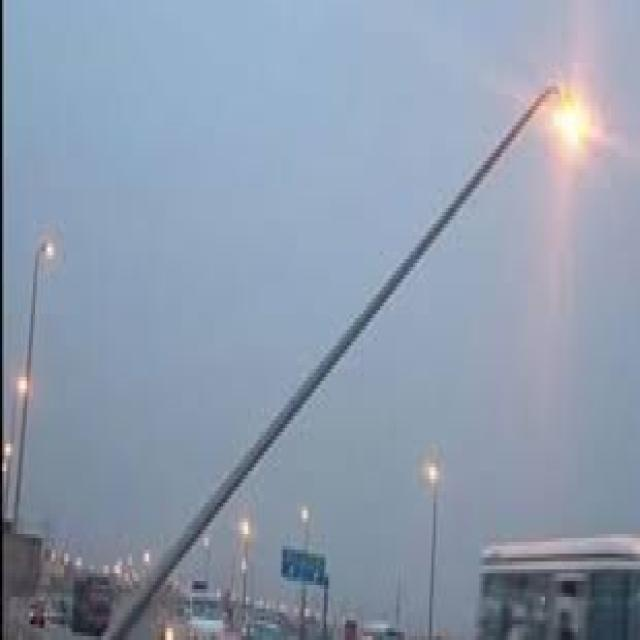Street Light: (12, 240, 54, 550), (425, 463, 440, 640)
